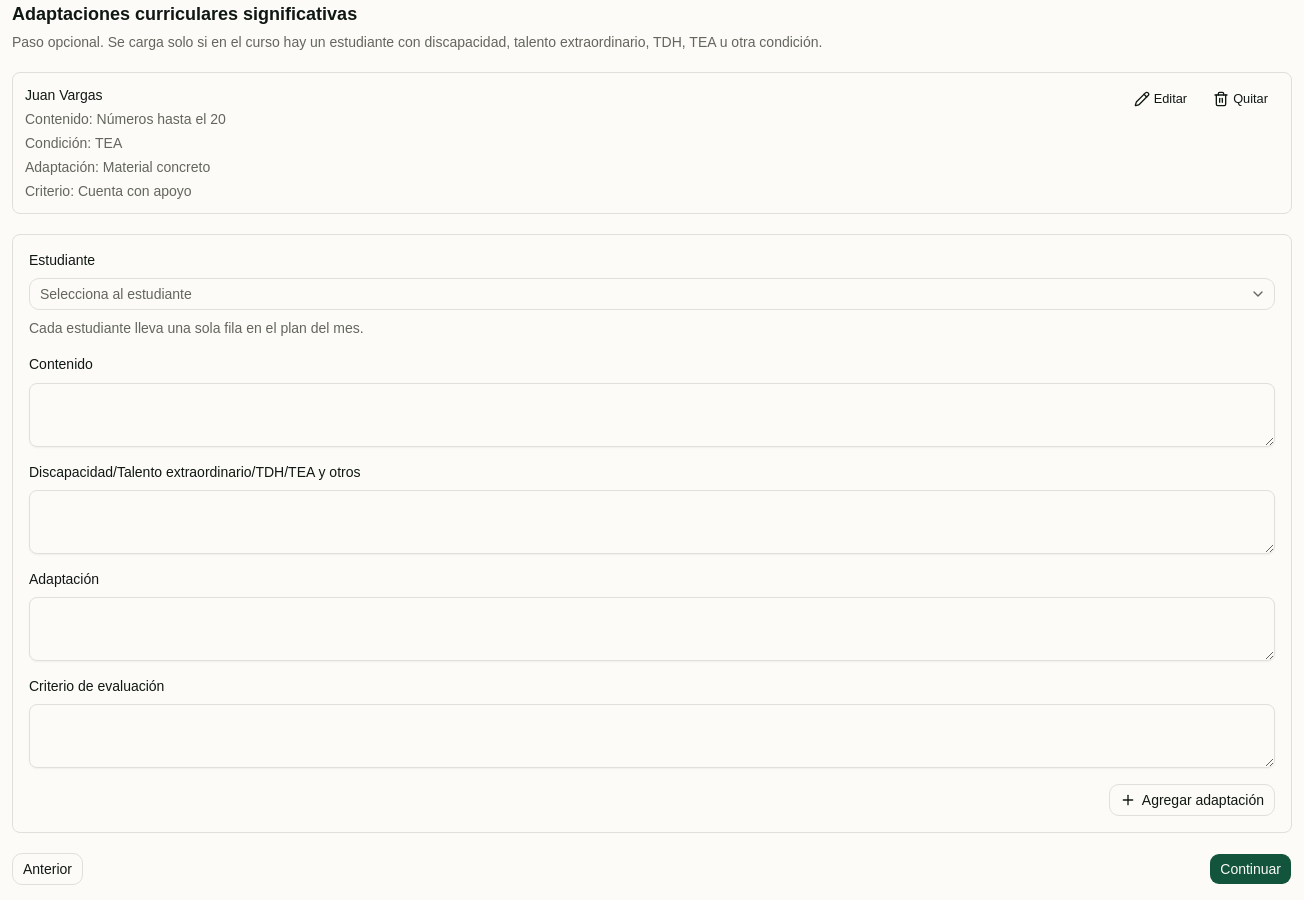
AdaptationsStep › leaves the row alone when the edit is cancelled
The image size is (1304, 900).
Click the button "Editar": (1160, 99) [1123,85,1198,113]
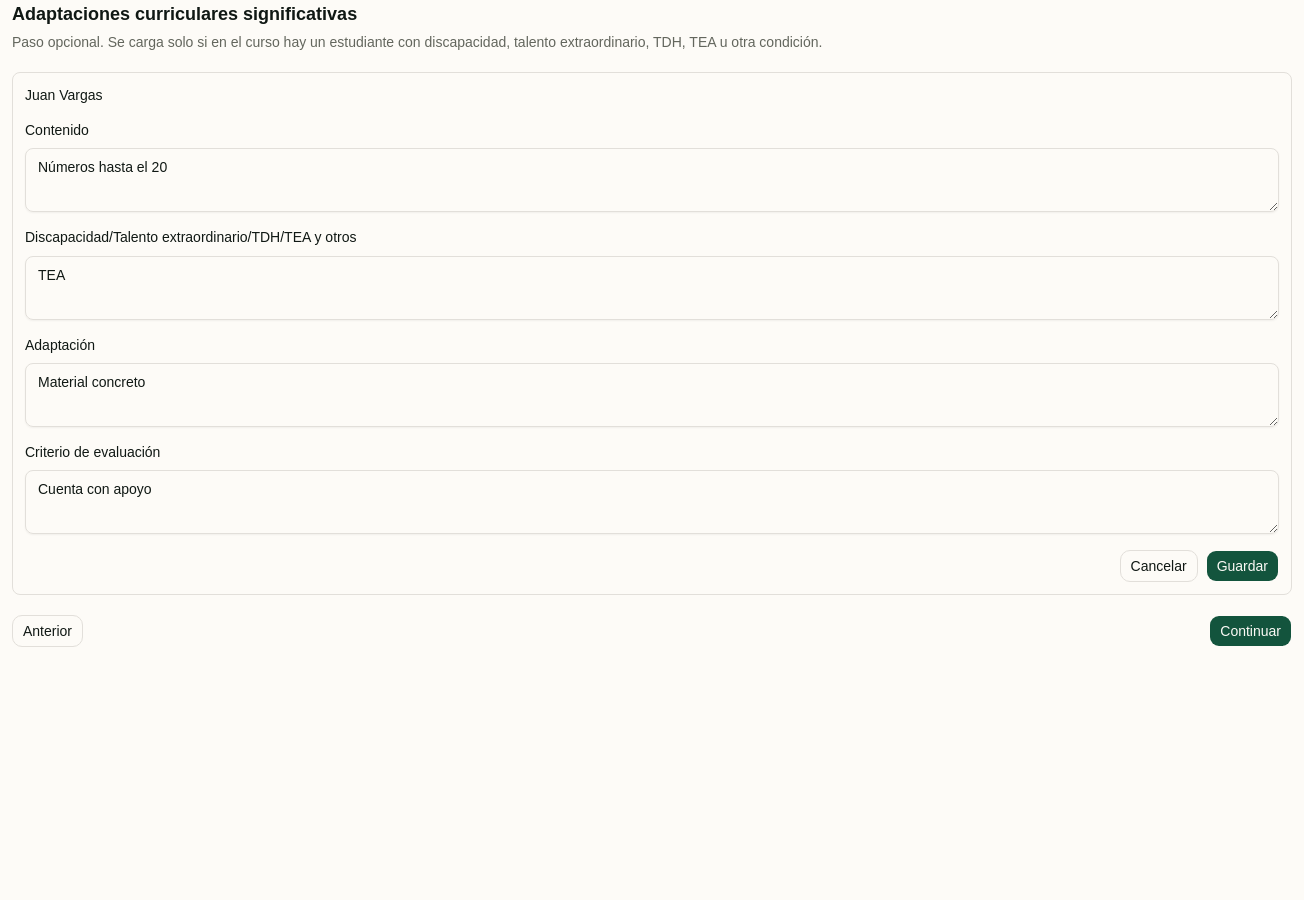
Clear the text box labelled "Discapacidad/Talento extraordinario/TDH/TEA y otros": (652, 288) [25,256,1279,320]
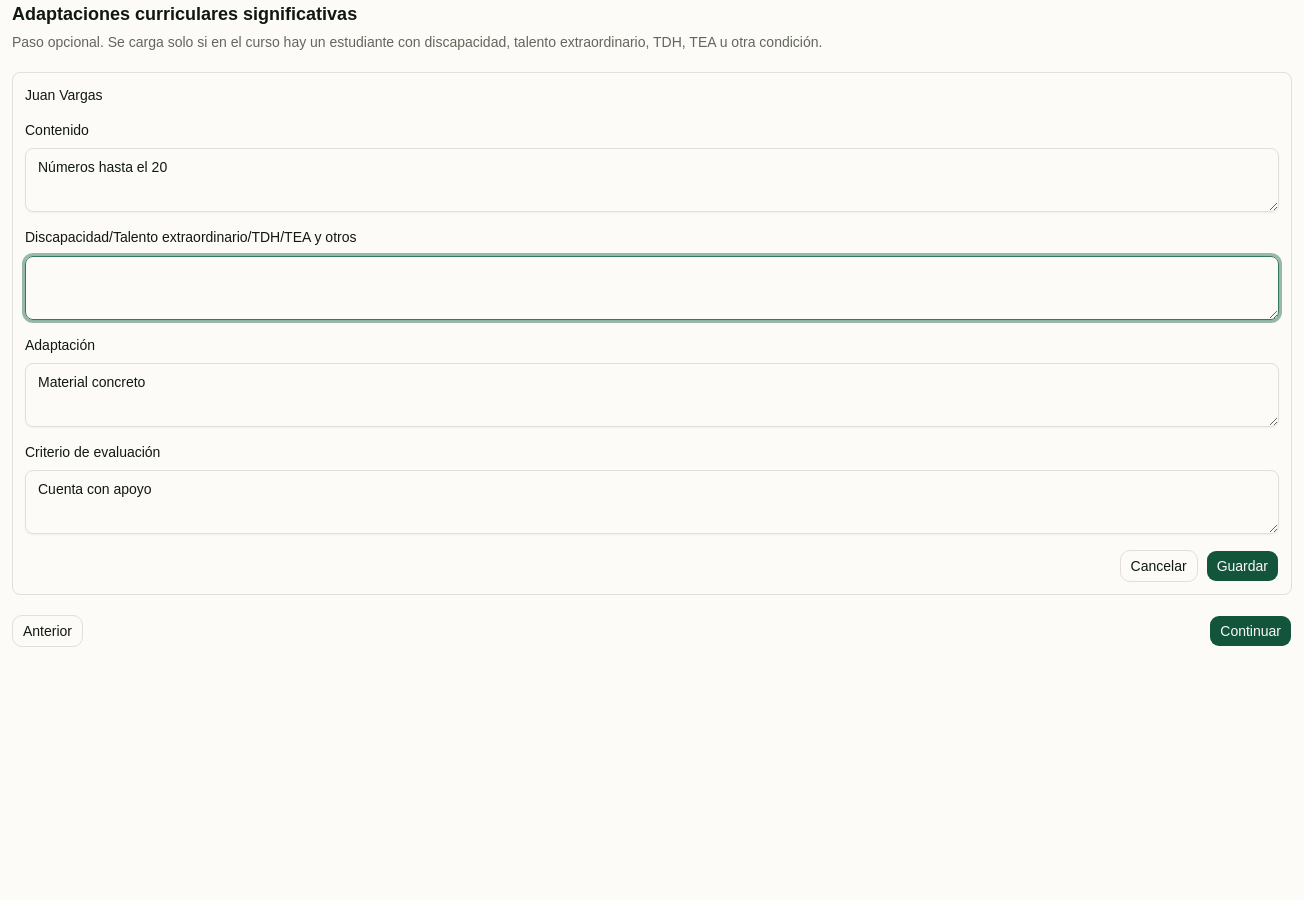
Click the button "Cancelar": (1159, 566) [1120,550,1198,582]
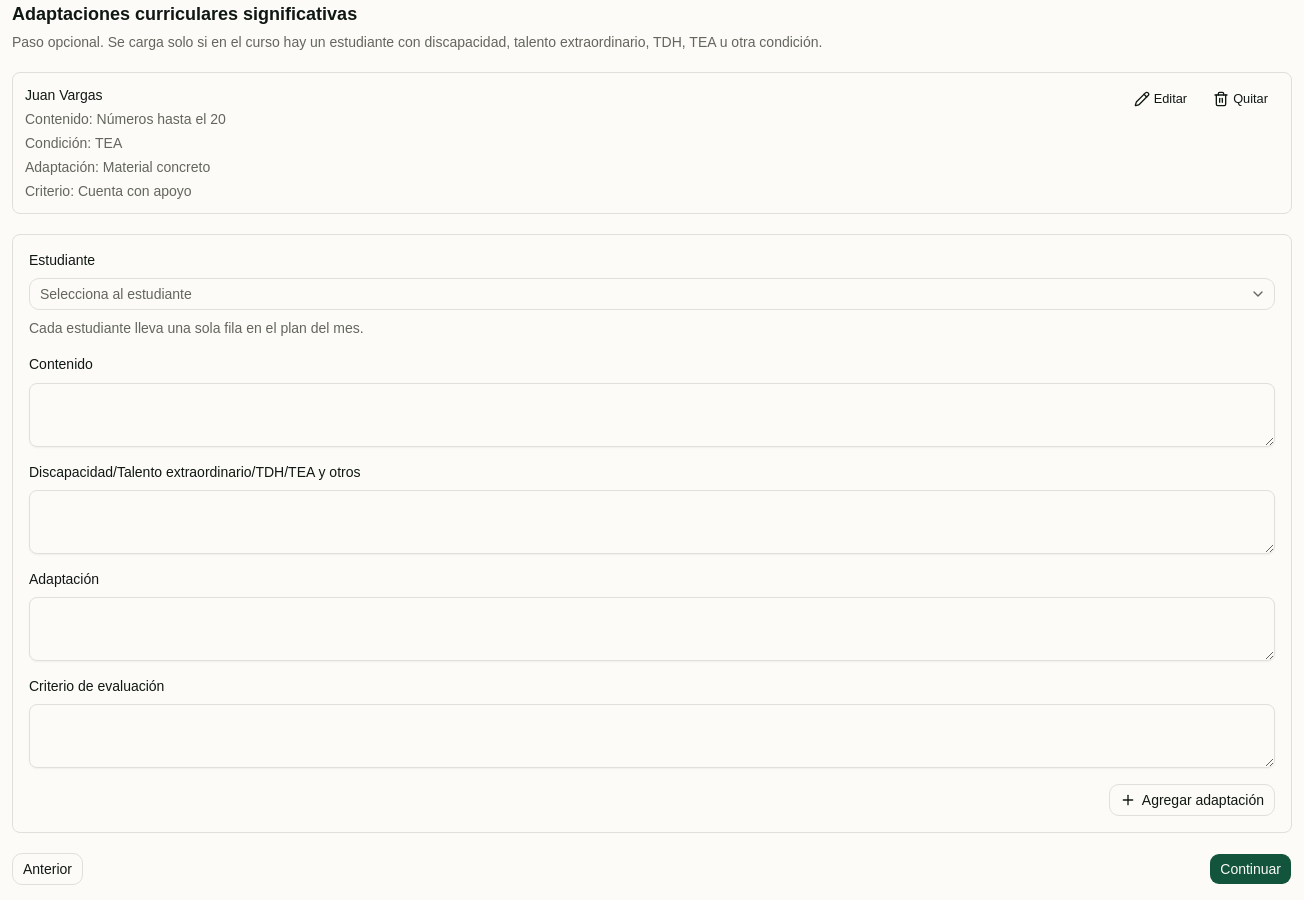
expect the button "Editar" is shown: met, box [1123,85,1198,113]
